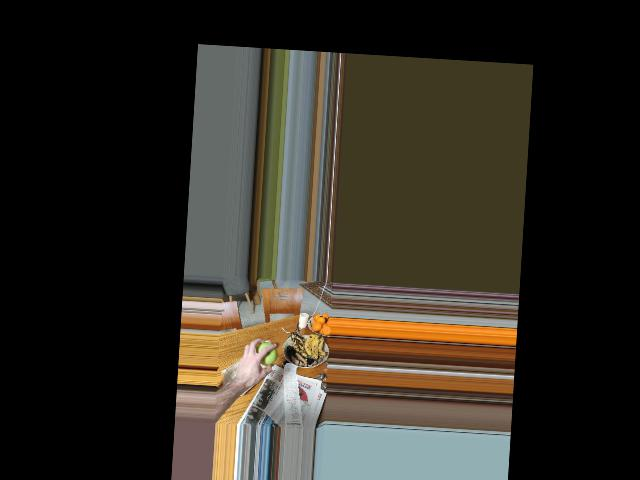apple: (254, 341, 277, 366)
